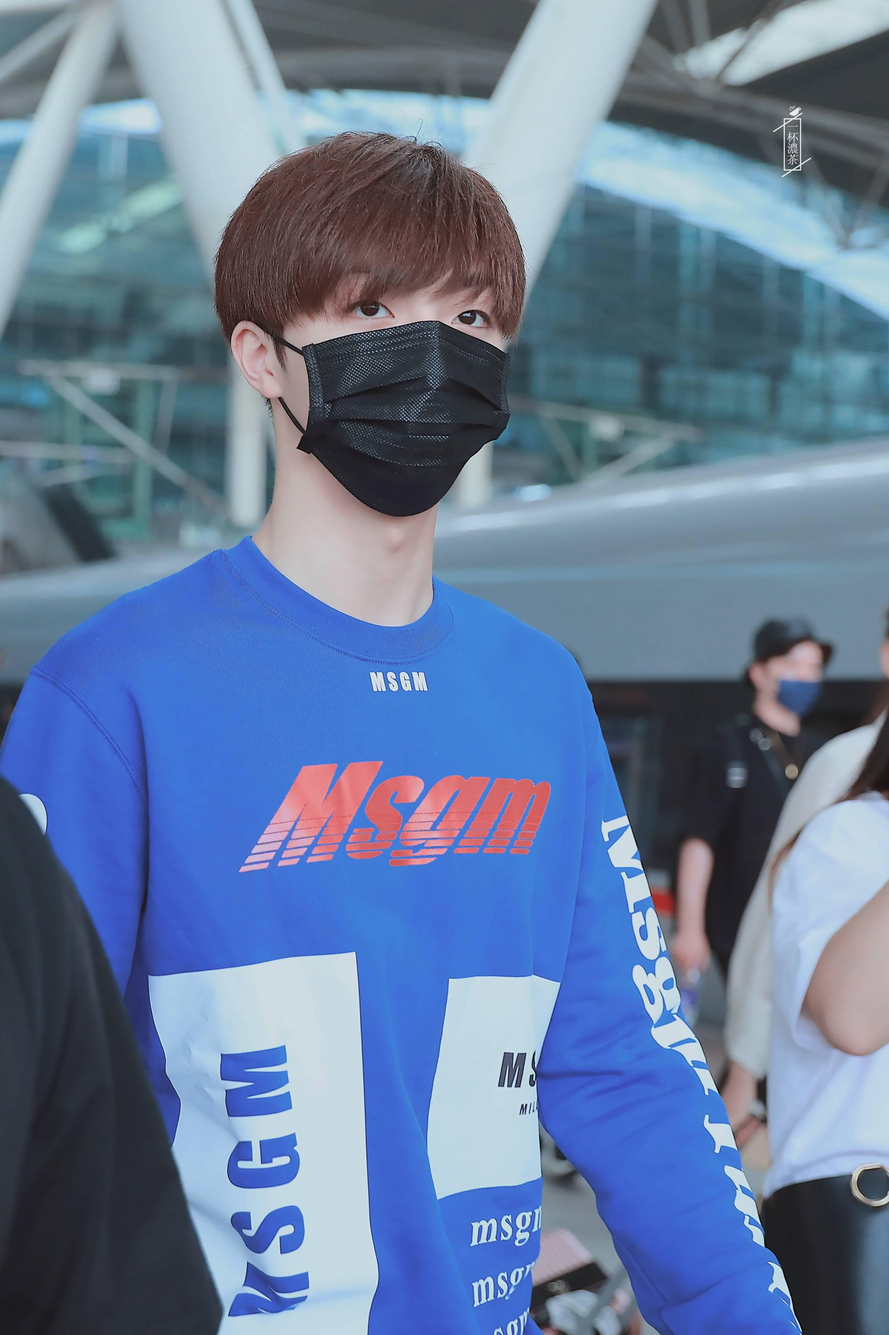OK: (294, 245, 510, 518), (776, 654, 828, 715)
